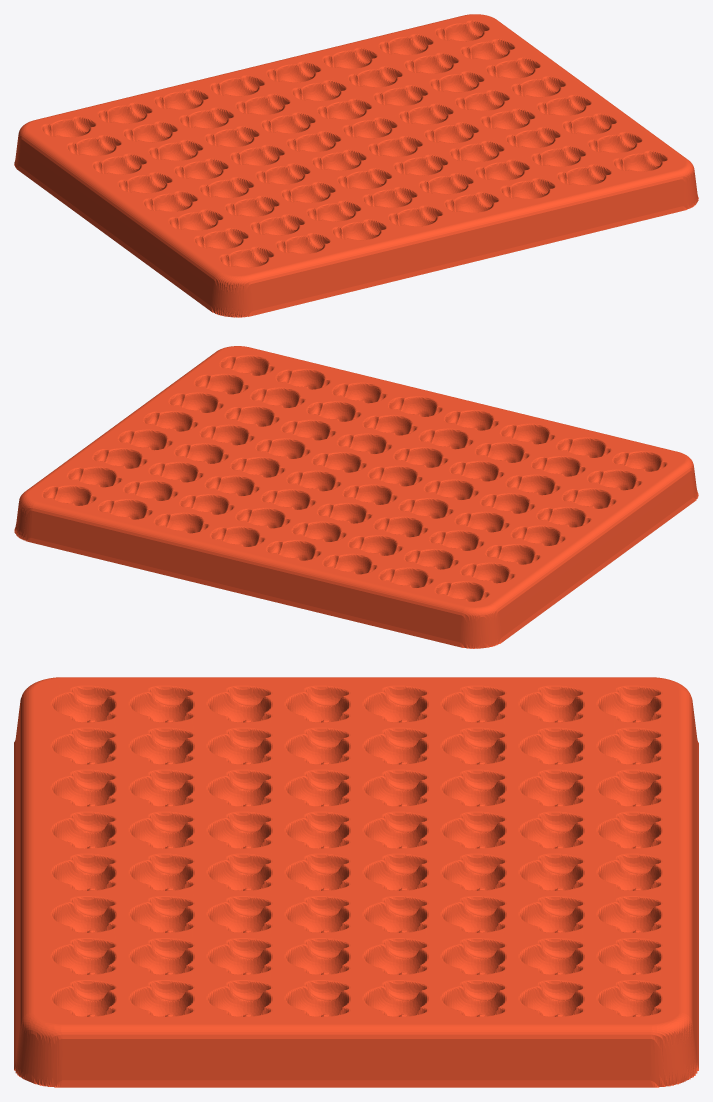
The model's file is mold.glb.
3 views of the same model, one above another, from view 1: azimuth 30°, elevation 25°; view 2: azimuth 150°, elevation 25°; view 3: azimuth 270°, elevation 25° (orthographic). The views are drawn at different scales.
Parts seen in each view (by area): view 1: geometry_0; view 2: geometry_0; view 3: geometry_0.
Boxes of the visible parts, x1,y1,x2,y2 form: geometry_0: (14, 14, 698, 317); geometry_0: (14, 346, 698, 648); geometry_0: (14, 677, 698, 1087).
Bounding box in the file's own units: 0.1591 × 0.0113 × 0.1271.
